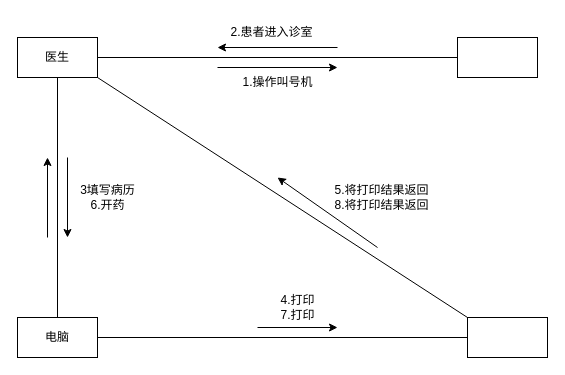
Image size: 565x375. Some labels were removed from this diagram. Here are the shapes that lost their labels. From the top down, the box of each, then its label:
(456, 36, 538, 78): 叫号机
(466, 316, 548, 358): 打印机
